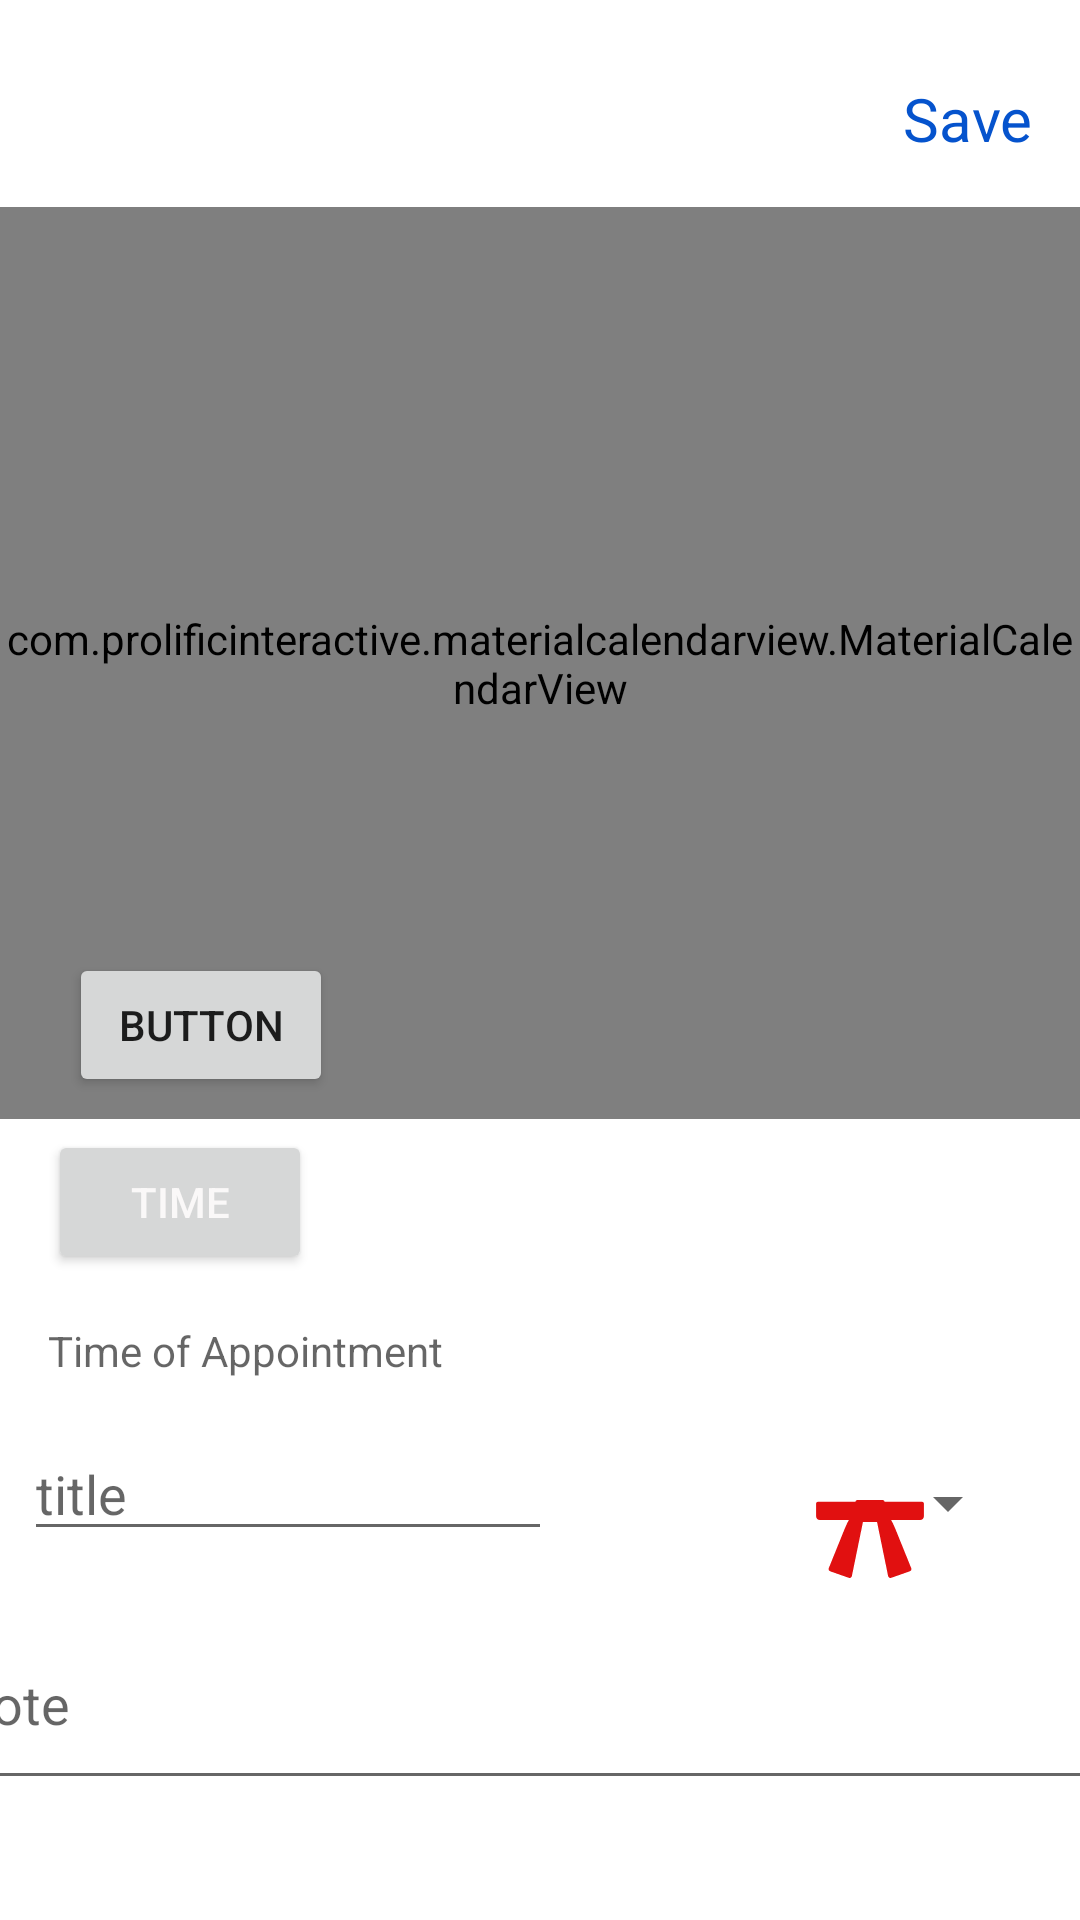

Where to tap for icons on this 1080x1920 app screen, as (x=x, y=y):
belt: (x=870, y=1539)
